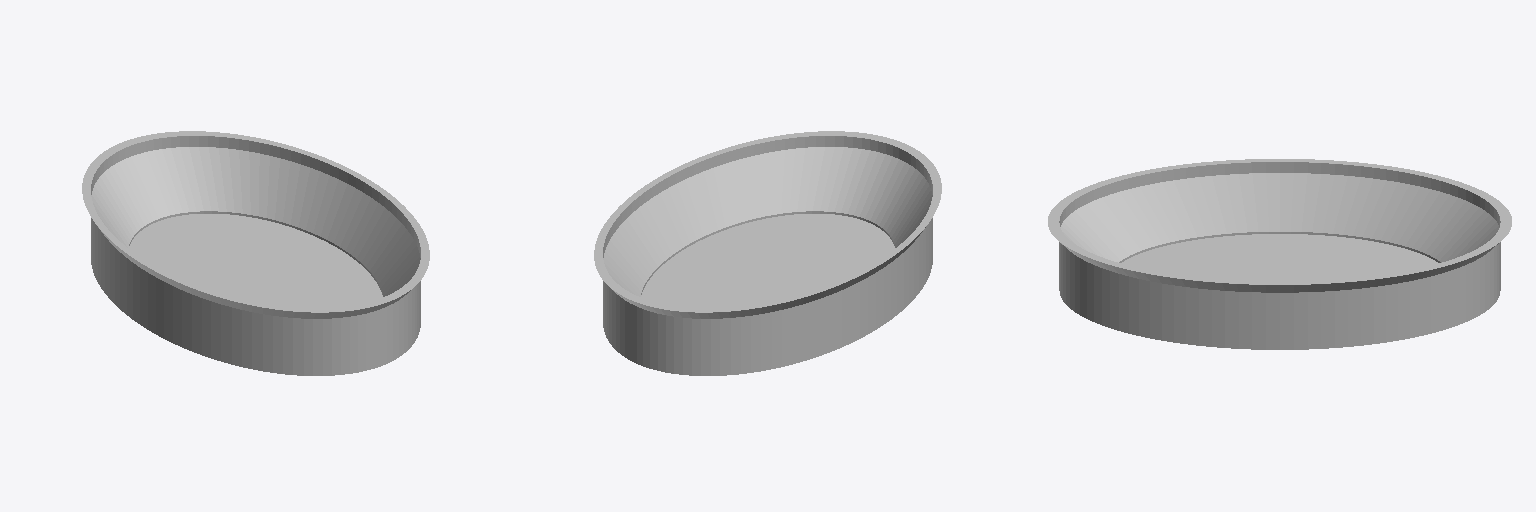
The model's file is gradin.obj.
3 views of the same model, side by side, from view 1: azimuth 30°, elevation 25°; view 2: azimuth 150°, elevation 25°; view 3: azimuth 270°, elevation 25° (orthographic).
Parts seen in each view (by area): view 1: Cylindre; view 2: Cylindre; view 3: Cylindre.
Boxes of the visible parts, x1=… form: Cylindre: x1=82, y1=131, x2=429, y2=375; Cylindre: x1=594, y1=131, x2=941, y2=375; Cylindre: x1=1048, y1=159, x2=1511, y2=349.
Size of the model in its own units: 244 by 61.5 by 380.